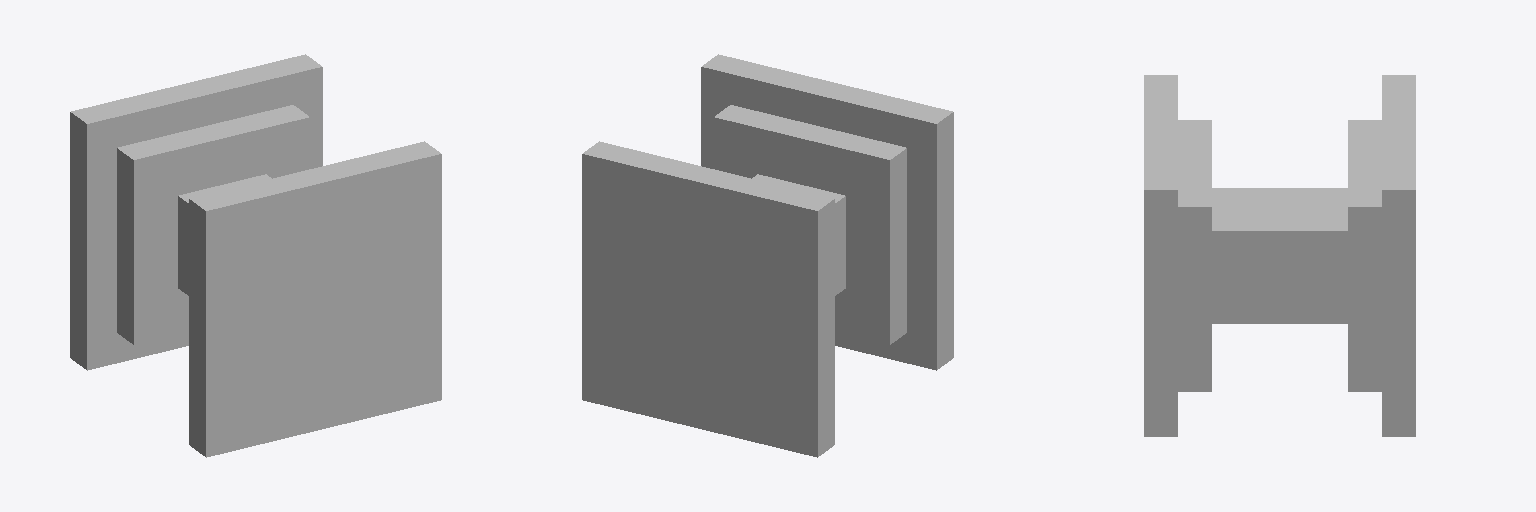
Rendered from bulkmover.obj.
The picture shows the model from 3 angles: view 1: azimuth 30°, elevation 25°; view 2: azimuth 150°, elevation 25°; view 3: azimuth 270°, elevation 25°; orthographic projection.
Visible parts, largest first — view 1: Cube; view 2: Cube; view 3: Cube.
Part boxes in pixels (x1,y1,x2,y2): Cube: (70,54,441,457); Cube: (582,54,953,457); Cube: (1144,75,1415,436).
Bounding box in the file's own units: 1 × 1 × 1.